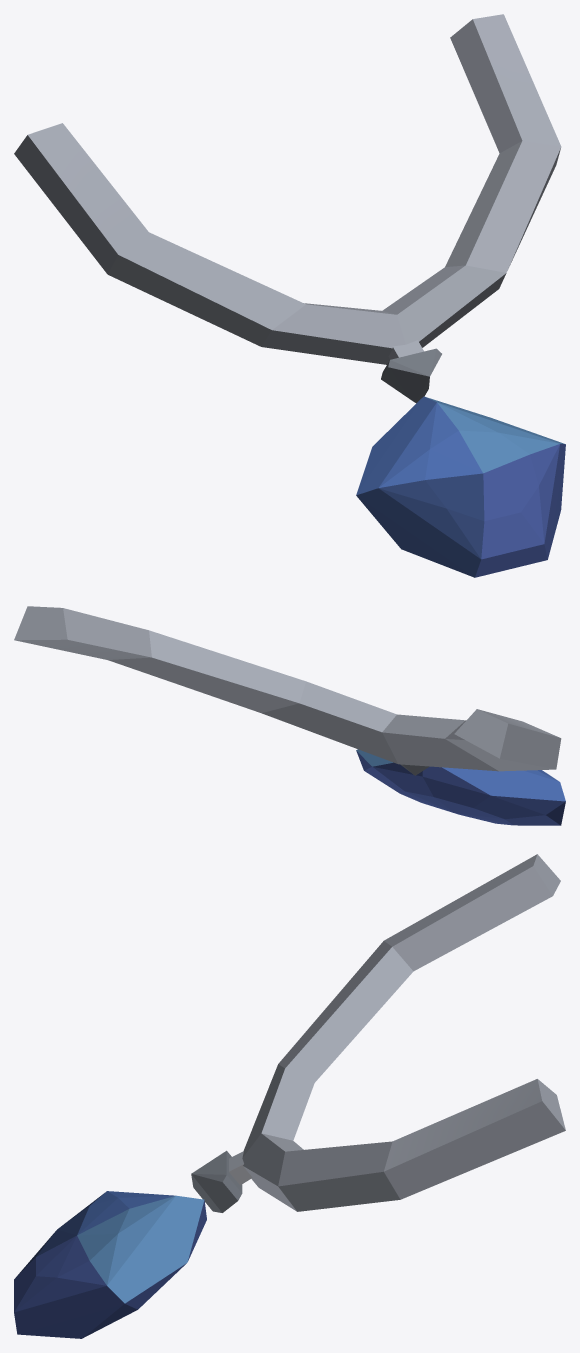
File: Prop.Necklace_09.fbx
3 views of the same model, one above another, from view 1: azimuth 30°, elevation 25°; view 2: azimuth 150°, elevation 25°; view 3: azimuth 270°, elevation 25° (orthographic). The views are drawn at different scales.
Parts seen in each view (by area): view 1: Prop_Necklace_09; view 2: Prop_Necklace_09; view 3: Prop_Necklace_09.
Boxes of the visible parts, x1,y1,x2,y2 form: Prop_Necklace_09: [14, 14, 565, 577]; Prop_Necklace_09: [14, 606, 565, 825]; Prop_Necklace_09: [14, 854, 565, 1338].
Bounding box in the file's own units: 17.17 × 11.05 × 15.89.
